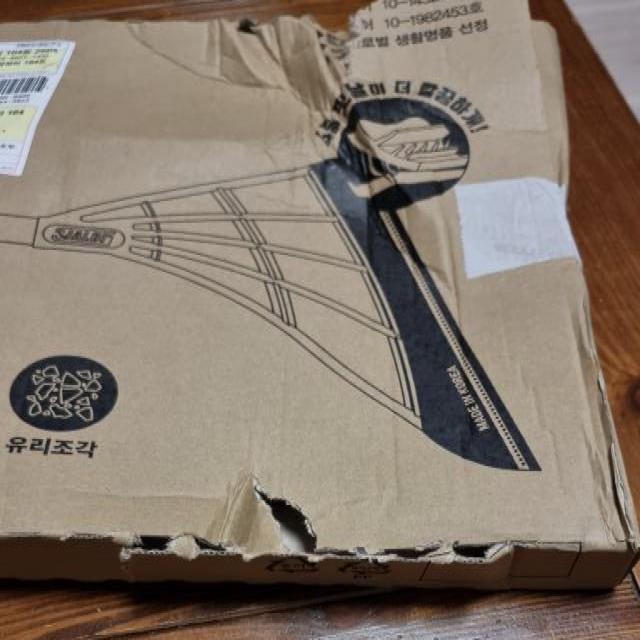hole: (118, 481, 506, 581)
